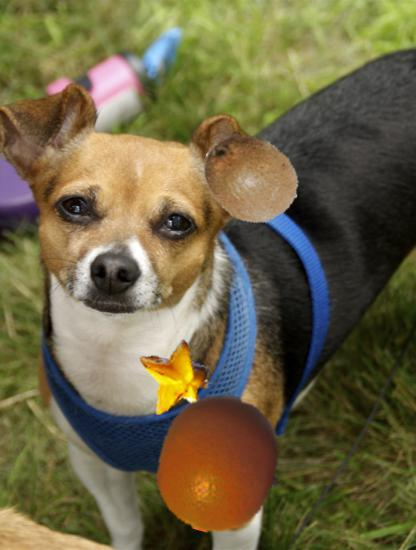Carambula: (137, 338, 217, 418)
Grapefruit: (151, 395, 290, 534)
Kiwi: (200, 128, 301, 229)
